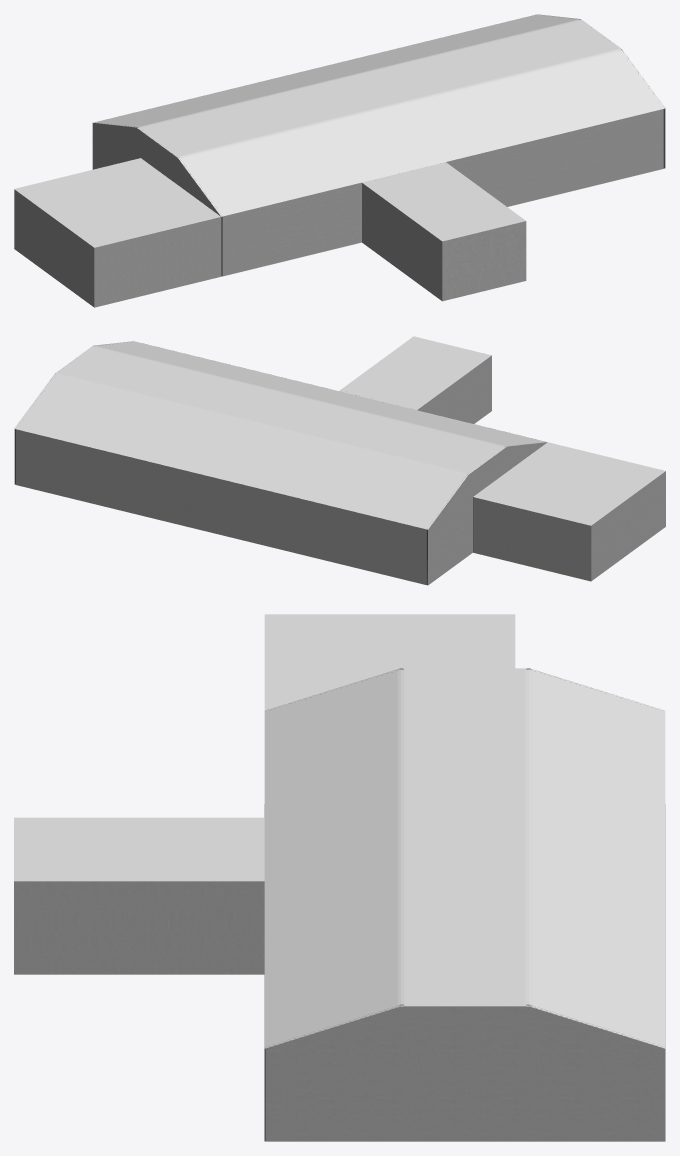
File: room.glb
3 views of the same model, one above another, from view 1: azimuth 30°, elevation 25°; view 2: azimuth 150°, elevation 25°; view 3: azimuth 270°, elevation 25° (orthographic). The views are drawn at different scales.
Parts seen in each view (by area): view 1: Roof_virtual lab_3, Wall_virtual lab_2.001, Wall_lobby, Wall_social space, Roof_lobby, Roof_social space, Roof_virtual lab_1, Wall_virtual lab_1; view 2: Roof_virtual lab_3, Wall_virtual lab_2.001, Wall_lobby, Roof_lobby, Roof_social space, Wall_social space, Wall_virtual lab_1, Roof_virtual lab_1; view 3: Roof_virtual lab_3, Wall_virtual lab_3, Wall_social space, Roof_lobby, Roof_social space, Roof_virtual lab_2.
Part boxes in pixels (x1=…): Roof_virtual lab_3: x1=93, y1=14, x2=665, y2=216; Wall_virtual lab_2.001: x1=222, y1=109, x2=663, y2=276; Wall_lobby: x1=14, y1=189, x2=221, y2=307; Wall_social space: x1=359, y1=161, x2=526, y2=301; Roof_lobby: x1=14, y1=158, x2=220, y2=247; Roof_social space: x1=362, y1=162, x2=525, y2=241; Roof_virtual lab_1: x1=93, y1=123, x2=220, y2=216; Wall_virtual lab_1: x1=92, y1=123, x2=140, y2=169; Roof_virtual lab_3: x1=14, y1=341, x2=546, y2=529; Wall_virtual lab_2.001: x1=16, y1=429, x2=426, y2=584; Wall_lobby: x1=473, y1=471, x2=665, y2=581; Roof_lobby: x1=473, y1=442, x2=665, y2=525; Roof_social space: x1=339, y1=336, x2=491, y2=409; Wall_social space: x1=417, y1=355, x2=491, y2=423; Wall_virtual lab_1: x1=428, y1=497, x2=472, y2=585; Roof_virtual lab_1: x1=429, y1=442, x2=546, y2=528; Roof_virtual lab_3: x1=264, y1=668, x2=665, y2=1048; Wall_virtual lab_3: x1=265, y1=1048, x2=665, y2=1141; Wall_social space: x1=14, y1=881, x2=264, y2=974; Roof_lobby: x1=264, y1=614, x2=515, y2=710; Roof_social space: x1=14, y1=817, x2=264, y2=881; Roof_virtual lab_2: x1=267, y1=1006, x2=662, y2=1048.
Size of the model in its own units: 33.28 by 4.86 by 21.1.
43 materials, 5 textured.
